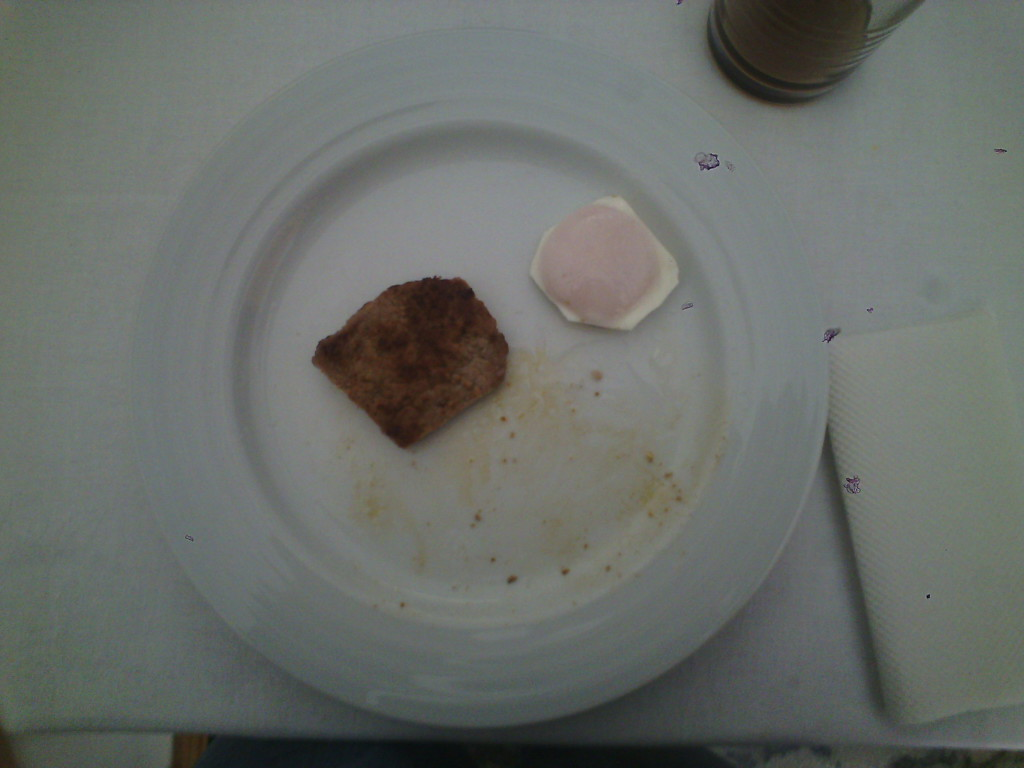21-40: (131, 28, 829, 724)
